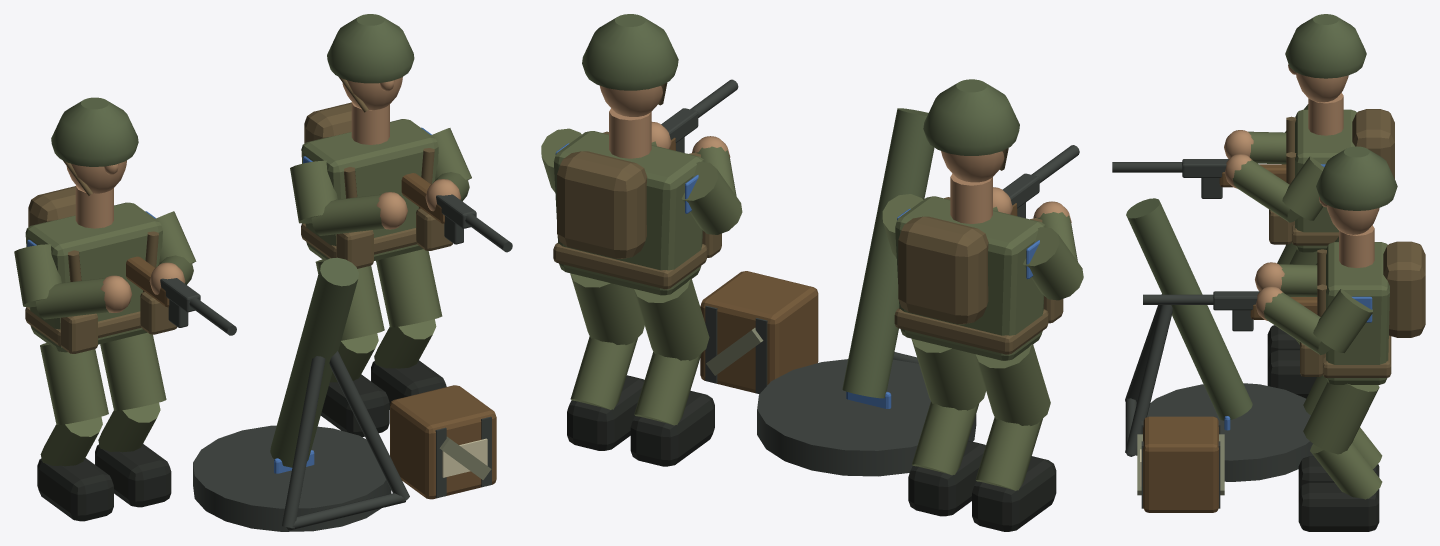
The model's file is mortarteam.glb.
3 renders of one model, left to right at view 1: azimuth 30°, elevation 25°; view 2: azimuth 150°, elevation 25°; view 3: azimuth 270°, elevation 25°, orthographic. The views are drawn at different scales.
Parts seen in each view (by area): view 1: Uniform, Steel, Armor, Canvas, Tracks, Timber, Skin, Markings, EdgeSteel; view 2: Uniform, Canvas, Armor, Steel, Tracks, Timber, Skin, TeamColor, EdgeSteel; view 3: Uniform, Armor, Steel, Canvas, Timber, Skin, Tracks, EdgeSteel.
Boxes of the visible parts, <box> form: Uniform: <box>14,119,471,466</box>; Steel: <box>160,194,512,531</box>; Armor: <box>51,14,414,467</box>; Canvas: <box>25,76,452,353</box>; Tracks: <box>37,360,446,521</box>; Timber: <box>126,173,496,499</box>; Skin: <box>66,77,460,312</box>; Markings: <box>442,438,487,477</box>; EdgeSteel: <box>439,436,491,479</box>; Uniform: <box>541,128,1083,490</box>; Canvas: <box>553,83,1063,354</box>; Armor: <box>582,14,1019,398</box>; Steel: <box>661,79,1079,476</box>; Tracks: <box>567,375,1056,531</box>; Timber: <box>670,137,1017,393</box>; Skin: <box>600,85,1071,223</box>; TeamColor: <box>555,143,1039,408</box>; EdgeSteel: <box>706,328,763,375</box>; Uniform: <box>1232,104,1389,499</box>; Armor: <box>1126,14,1397,420</box>; Steel: <box>1112,159,1313,508</box>; Canvas: <box>1269,109,1425,377</box>; Timber: <box>1143,164,1317,512</box>; Skin: <box>1224,64,1379,320</box>; Tracks: <box>1267,325,1379,531</box>; EdgeSteel: <box>1137,434,1224,495</box>.
Size of the model in its own units: 2.08 by 1.68 by 1.32.
